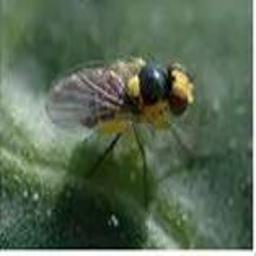liriomyza: (43, 52, 198, 186)
